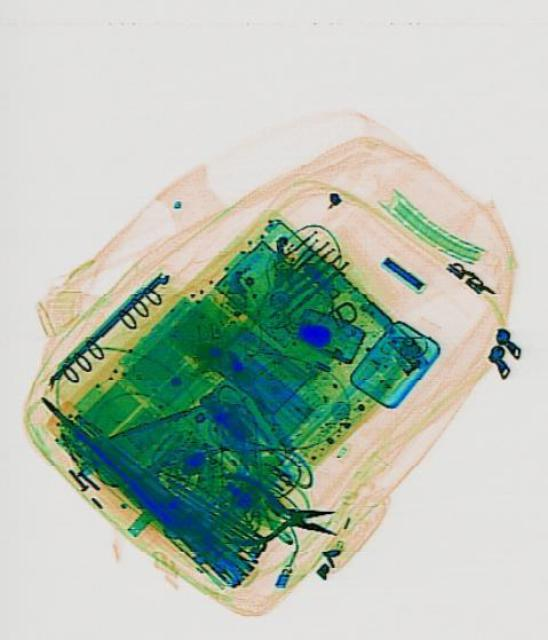Pliers: (212, 470, 338, 554)
